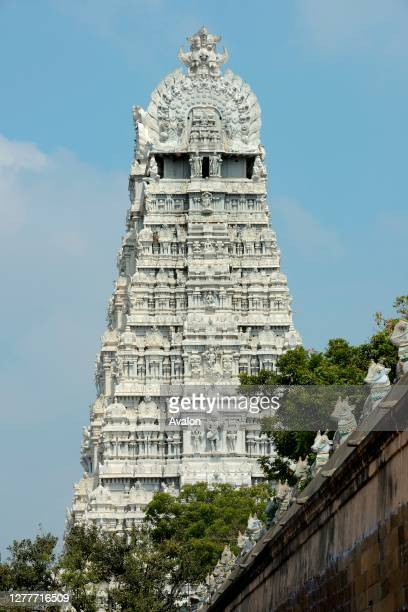Temple: (96, 36, 299, 507)
